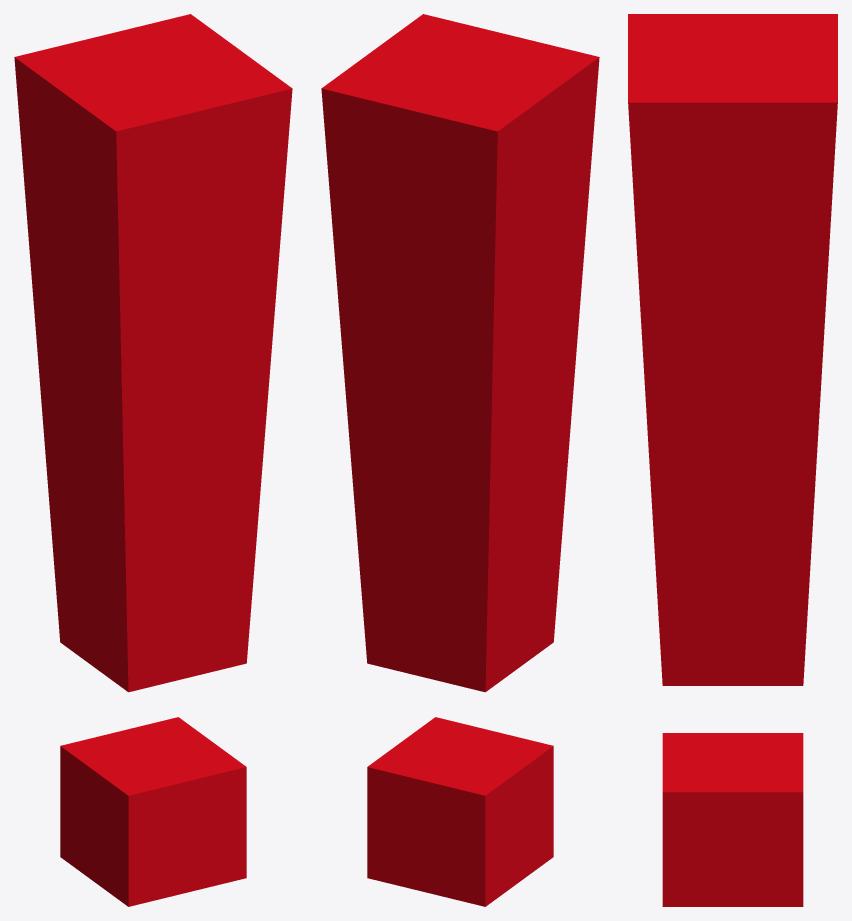
The model's file is alert.fbx.
3 views of the same model, side by side, from view 1: azimuth 30°, elevation 25°; view 2: azimuth 150°, elevation 25°; view 3: azimuth 270°, elevation 25° (orthographic). The views are drawn at different scales.
Visible parts, largest first — view 1: Alert!; view 2: Alert!; view 3: Alert!.
Part boxes in pixels (x1=…): Alert!: x1=14, y1=14, x2=292, y2=906; Alert!: x1=321, y1=14, x2=599, y2=906; Alert!: x1=628, y1=14, x2=837, y2=906.
Size of the model in its own units: 29.82 by 128 by 29.82.
